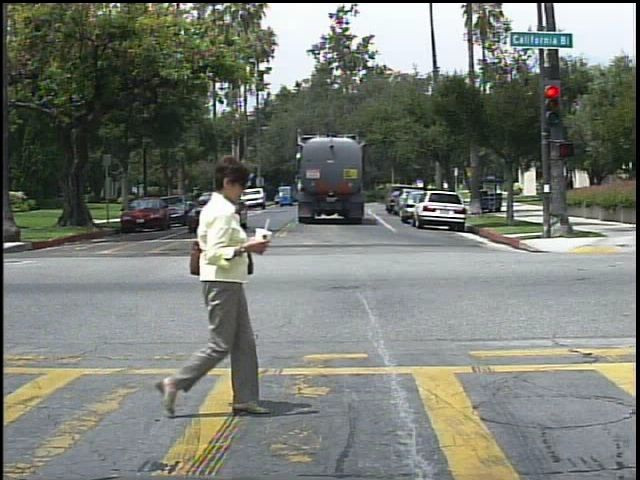person: (149, 152, 269, 424), (564, 172, 582, 205), (515, 181, 529, 200)
